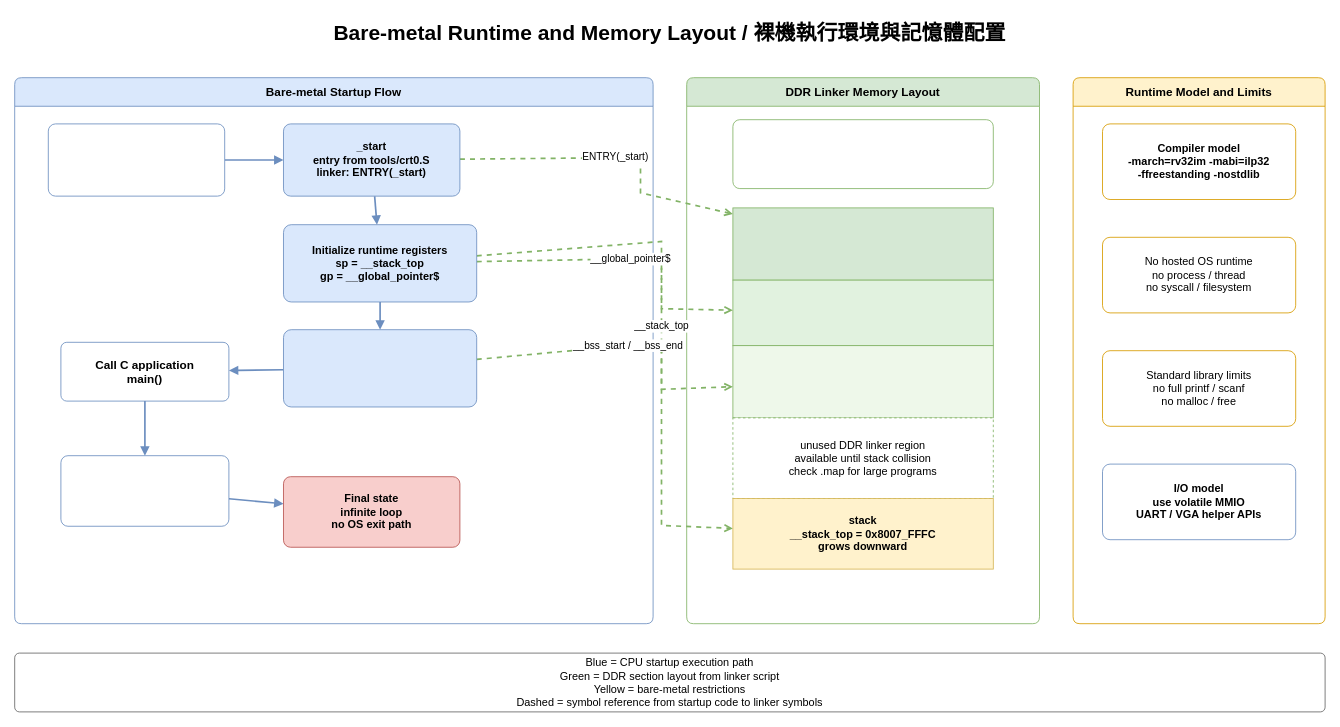
This 1340x727 diagram has some shape labels left out. The shapes that lost their labels are listed below. From the top down, each one's centre as x and y in pixels, then its label:
point (136, 159): CPU reset release RESET_PC = 0x8000_0000 program already loaded in DDR2
point (862, 154): tools/link_ddr.ld DDR ORIGIN = 0x8000_0000 LENGTH = 512 KiB
point (862, 243): .text + .rodata startup code, program code, constants starts at 0x8000_0000
point (862, 312): .data / .sdata initialized global/static variables defines __global_pointer$
point (380, 368): Clear .bss for addr from __bss_start to __bss_end: store 0
point (862, 381): .bss / .sbss / COMMON zero-initialized globals/statics cleared by crt0.S
point (144, 490): Return handling x8 = a0 testbench-visible result
